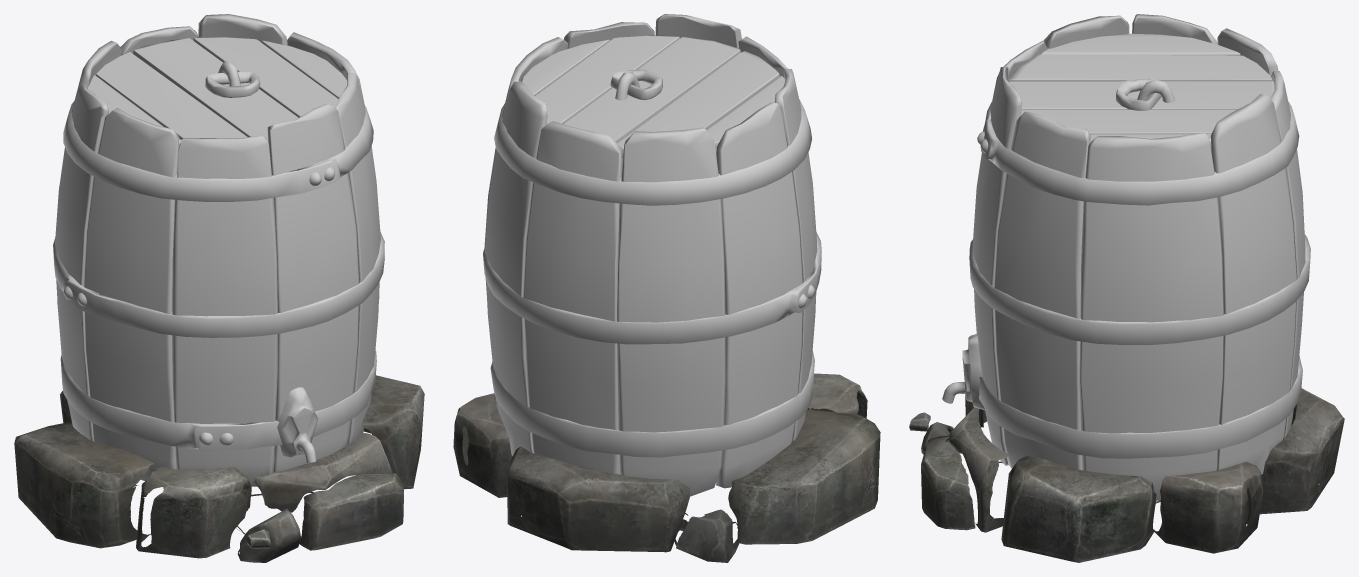
3 renders of one model, left to right at view 1: azimuth 30°, elevation 25°; view 2: azimuth 150°, elevation 25°; view 3: azimuth 270°, elevation 25°, orthographic. The views are drawn at different scales.
Parts seen in each view (by area): view 1: SM_WaterBarrel_01_LOD0; view 2: SM_WaterBarrel_01_LOD0; view 3: SM_WaterBarrel_01_LOD0.
Part boxes in pixels (bbox=[...]): SM_WaterBarrel_01_LOD0: bbox=[14, 14, 424, 562]; SM_WaterBarrel_01_LOD0: bbox=[453, 14, 880, 562]; SM_WaterBarrel_01_LOD0: bbox=[909, 14, 1344, 562].
Bounding box in the file's own units: 1.29 × 1.42 × 1.3.
